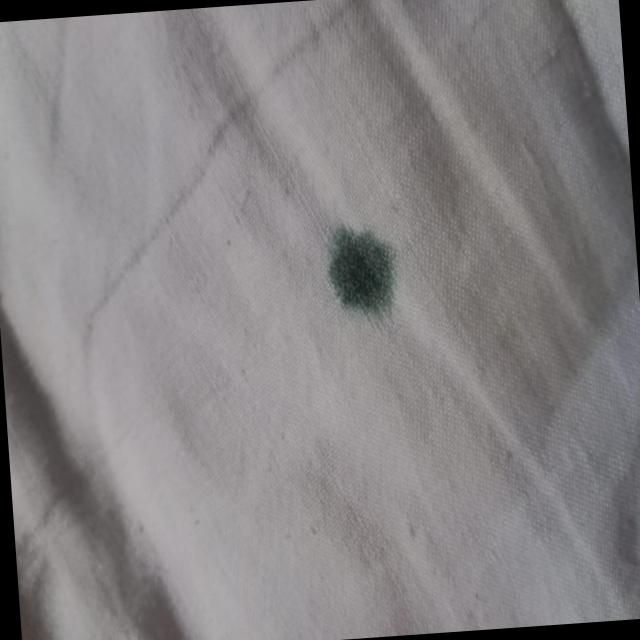stain: (321, 220, 406, 320)
